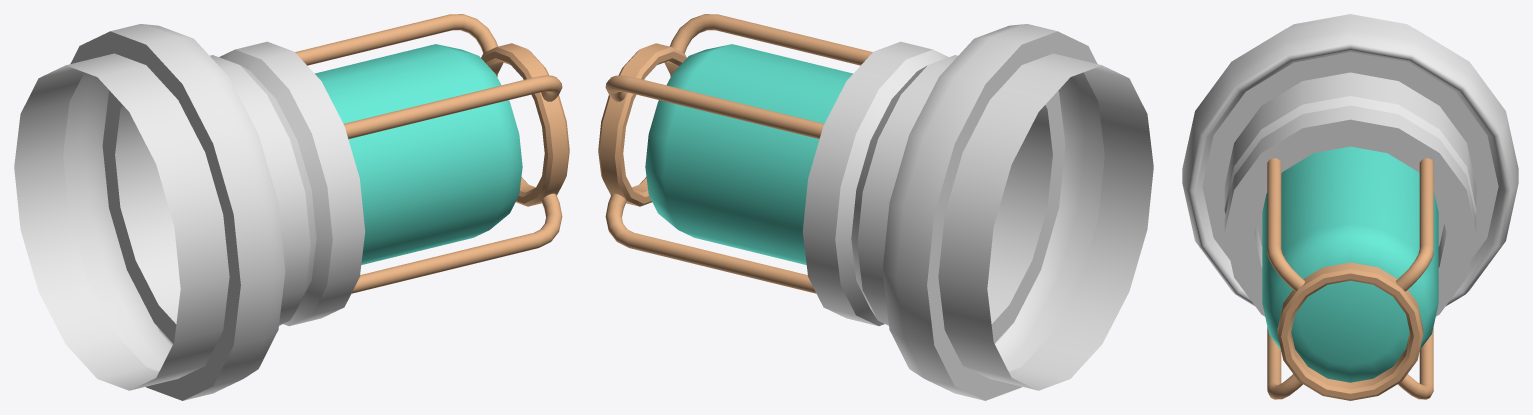
Rendered from SM_Light_Warning.fbx.
3 views of the same model, side by side, from view 1: azimuth 30°, elevation 25°; view 2: azimuth 150°, elevation 25°; view 3: azimuth 270°, elevation 25° (orthographic). The views are drawn at different scales.
Parts seen in each view (by area): view 1: Cylinder.013; view 2: Cylinder.013; view 3: Cylinder.013.
Boxes of the visible parts, x1=… form: Cylinder.013: x1=14, y1=14, x2=569, y2=400; Cylinder.013: x1=598, y1=14, x2=1153, y2=400; Cylinder.013: x1=1182, y1=14, x2=1518, y2=400.
Size of the model in its own units: 43.75 by 33.07 by 33.07.
